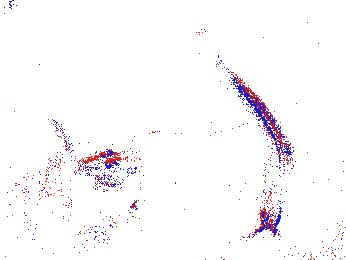X-ray fish: (19, 151, 71, 247), (33, 208, 124, 252)
glassfish: (194, 29, 293, 229)
siberian prawn: (69, 118, 239, 188), (115, 172, 257, 238)
